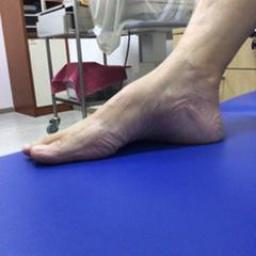Medial View -Right Foot-: (18, 38, 242, 170)
